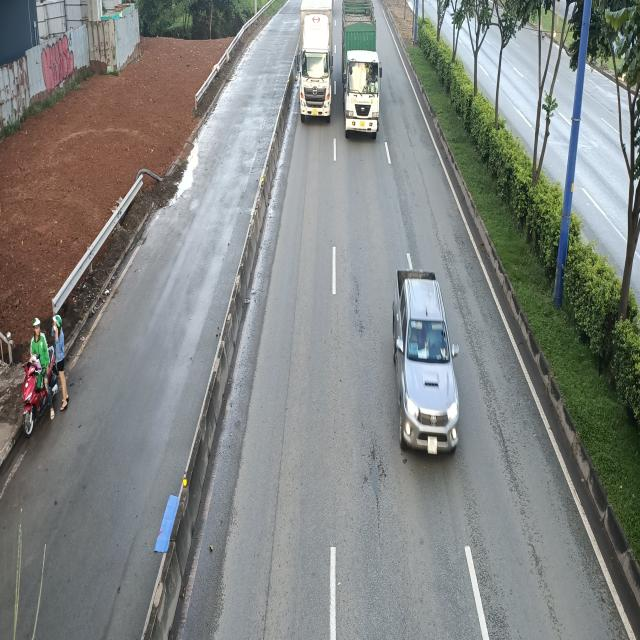car: (391, 271, 458, 458)
container: (340, 3, 382, 139)
truck: (299, 1, 336, 127)
